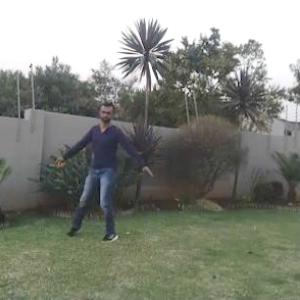land: (49, 98, 170, 247)
